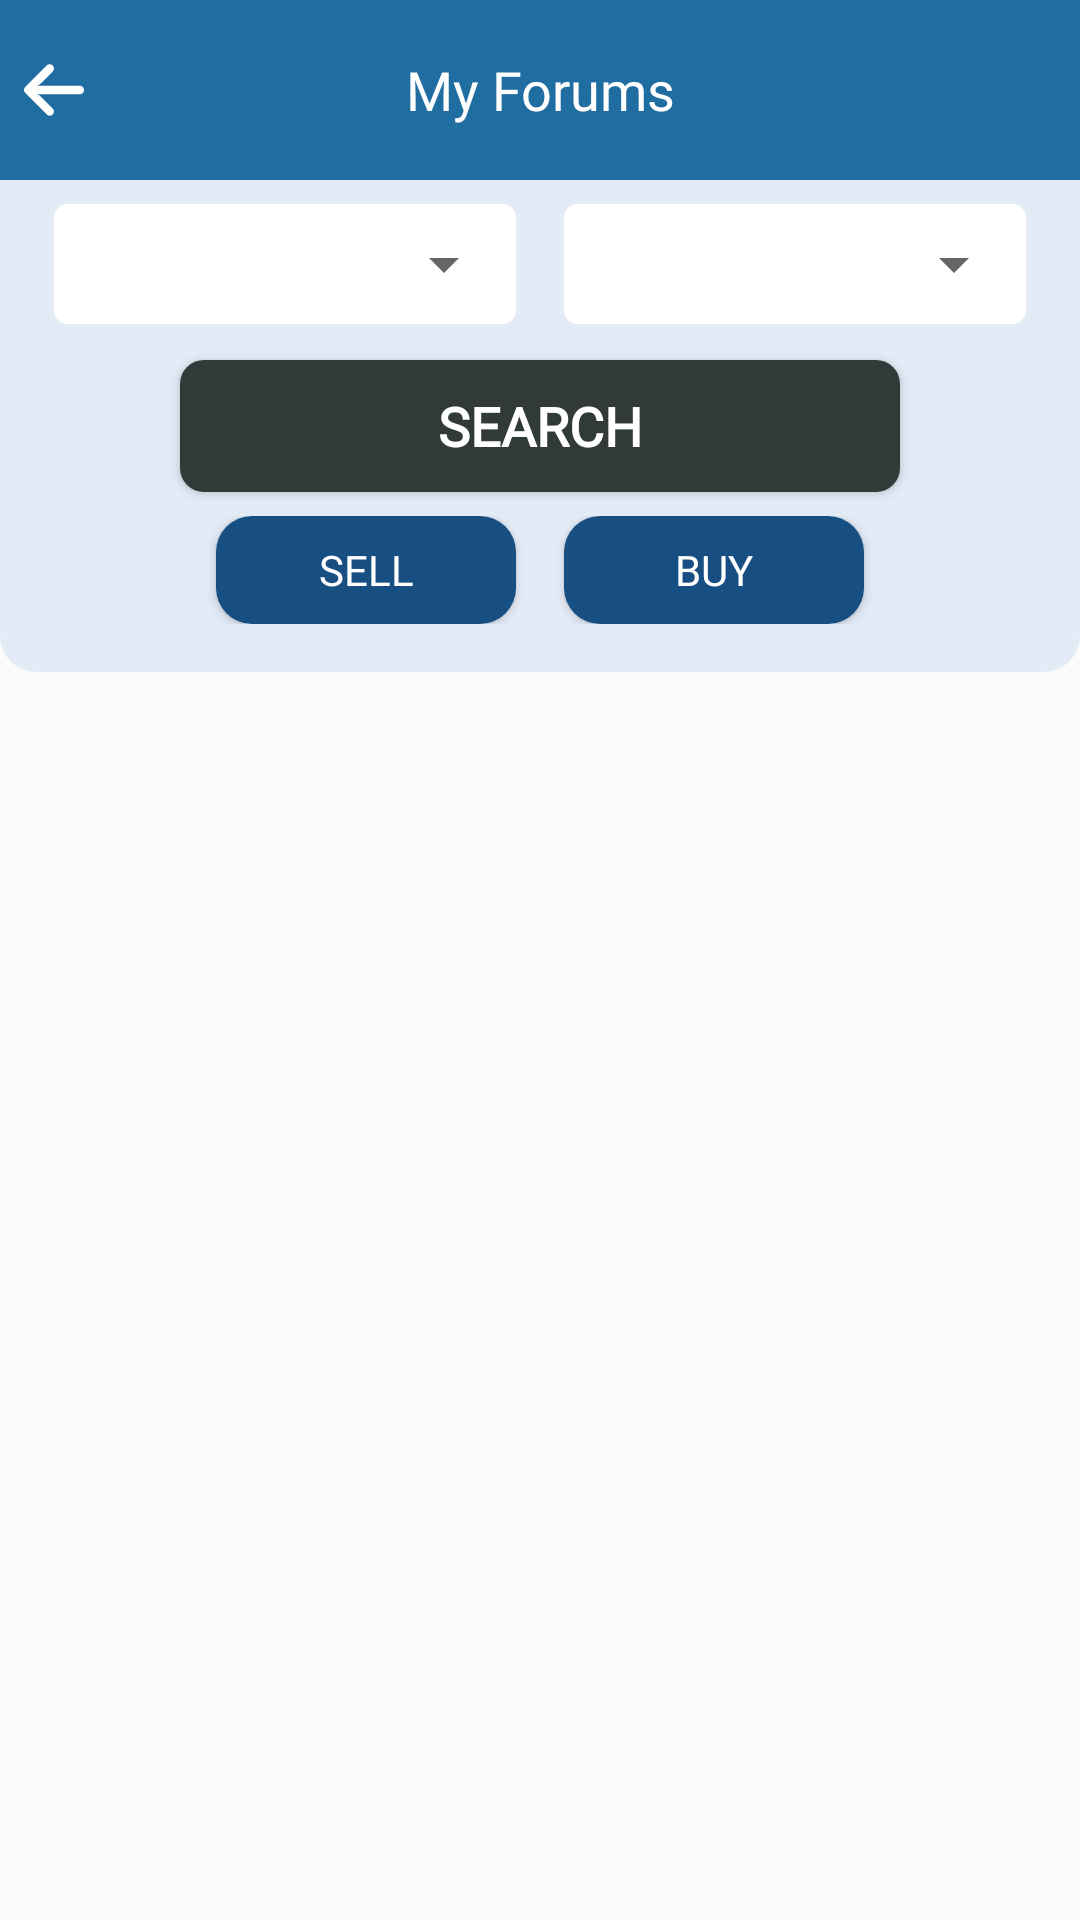

Locate icon controls on the screen. Image size 1080px×1920px, boxes as (x1,y1,x2,y2).
back: (24,64,84,116)
